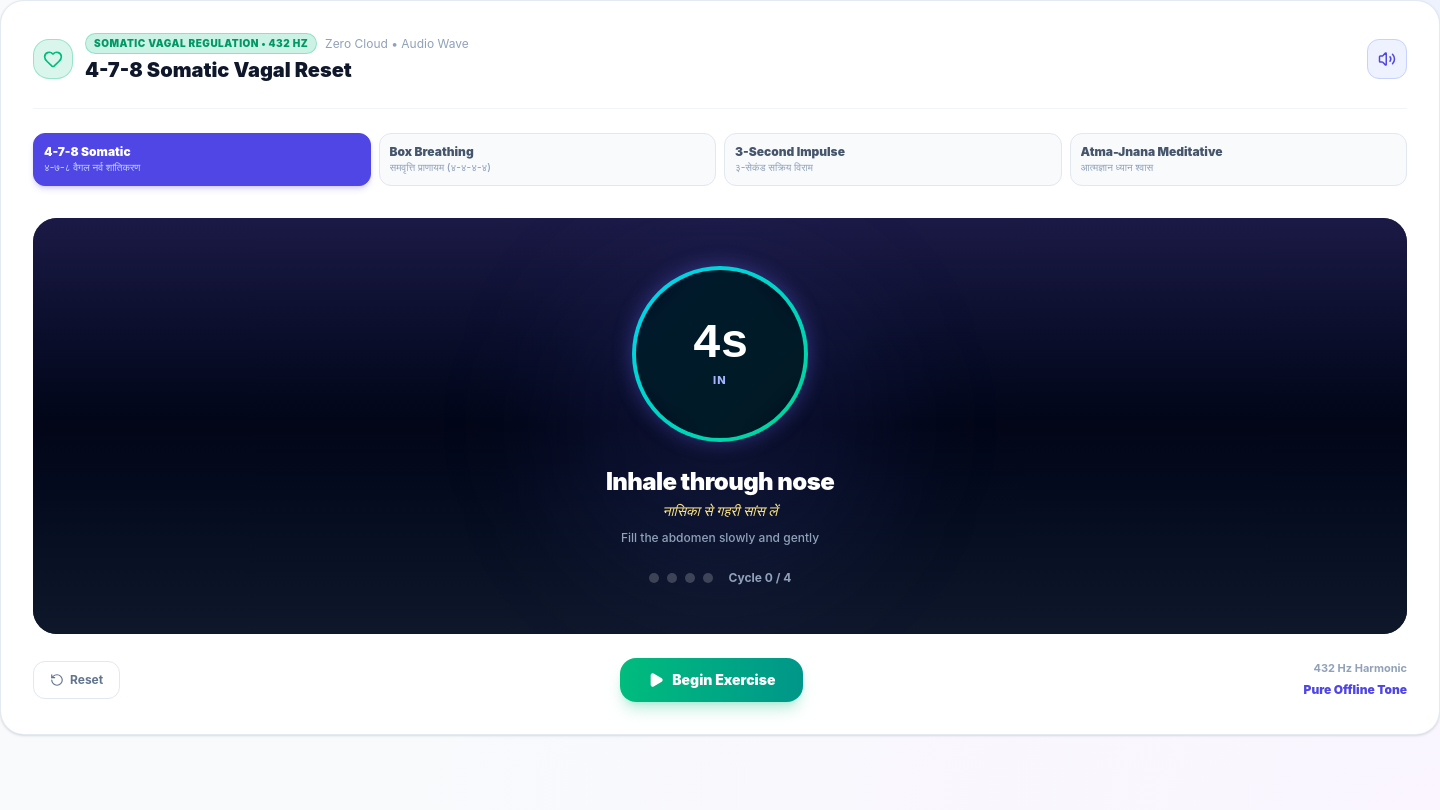
Scenario: Somatic Breathing Companion Component › starts and pauses the breathing cycle upon button click
The image size is (1440, 810).
Click the button "Begin Exercise".
click(712, 680)  # box [620,658,803,702]
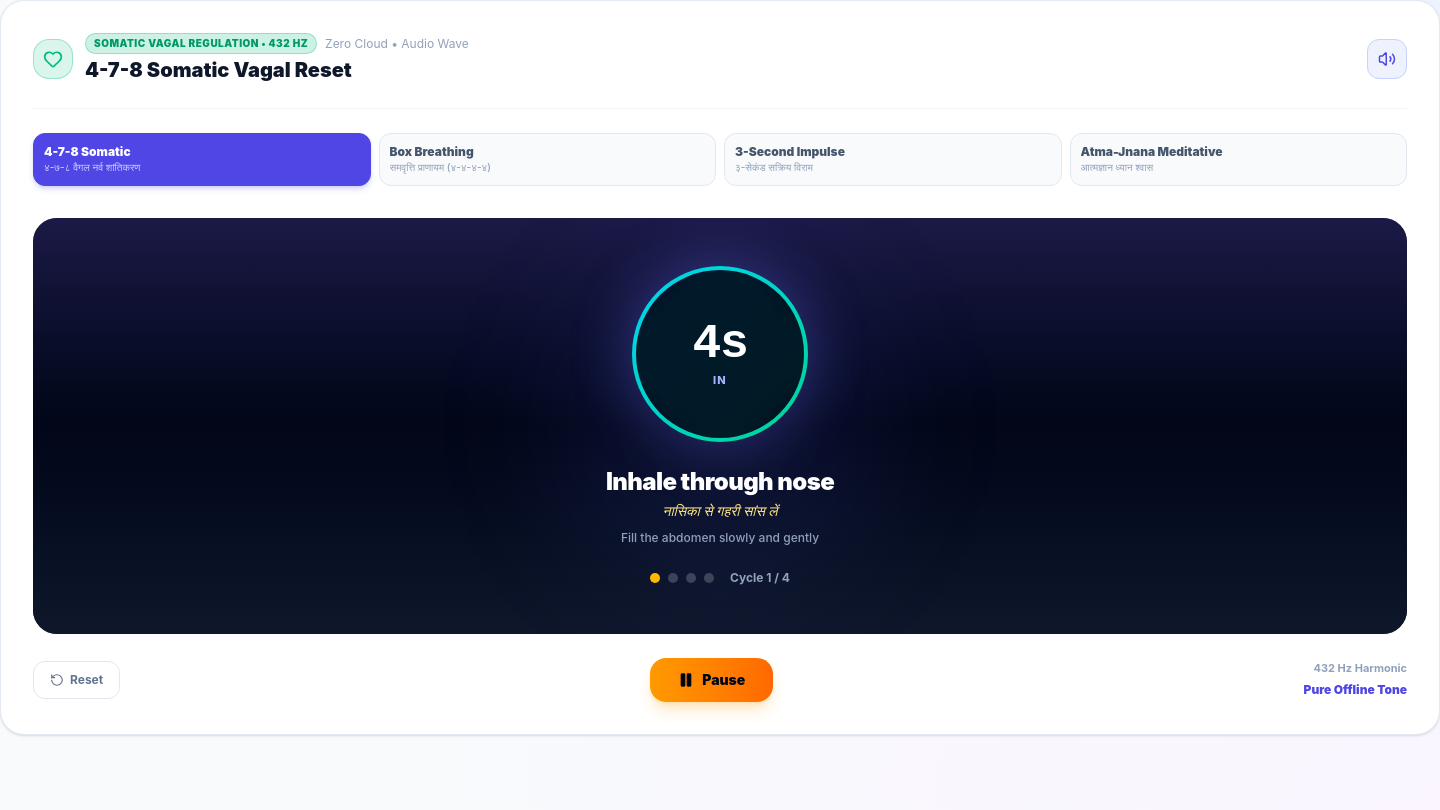
Check: the text "Pause" is shown, box [702,670,745,690]
Click the button "Pause".
click(712, 680)  # box [650,658,773,702]
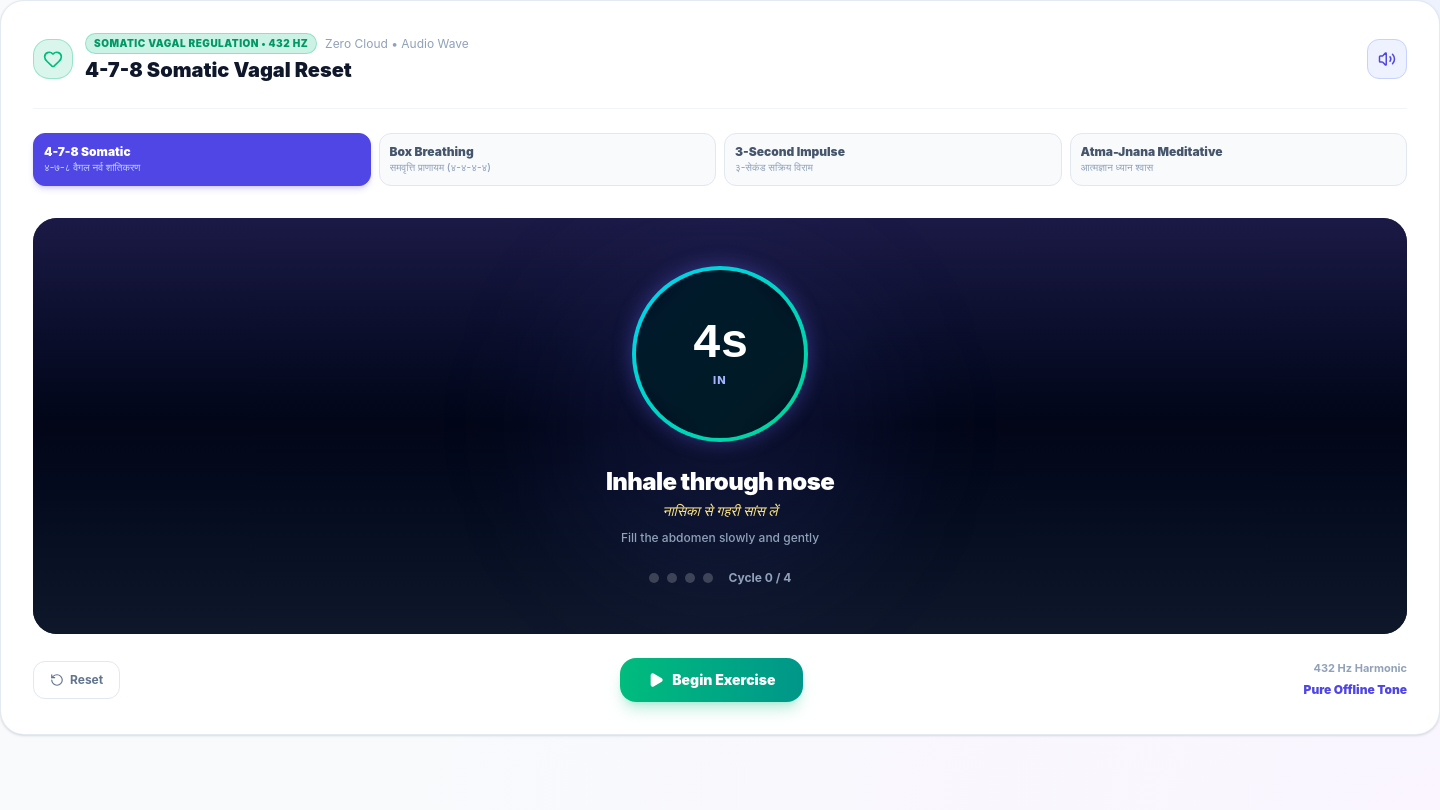
Check: the text "Begin Exercise" is shown, box [672,670,775,690]
